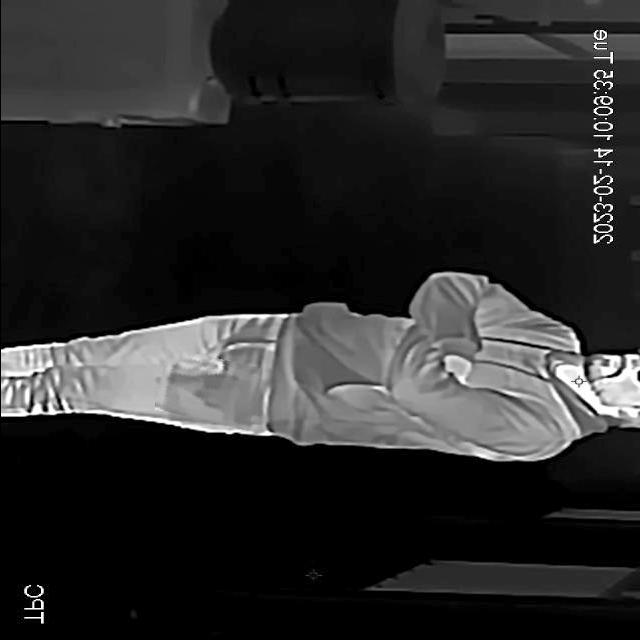Weapon: (156, 352, 259, 426)
